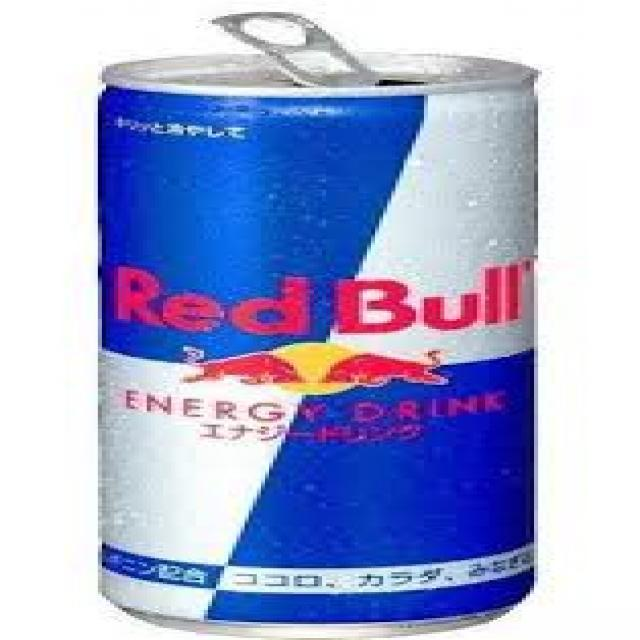recyclable: (85, 48, 542, 640)
